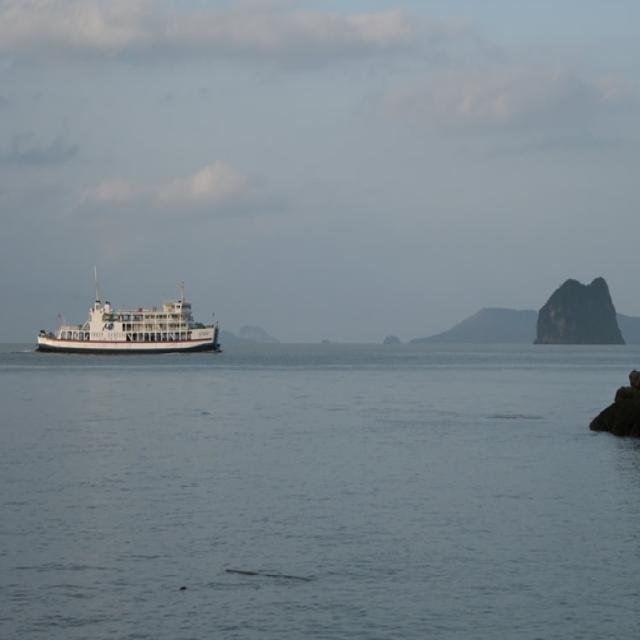houseboat: (25, 270, 238, 358)
